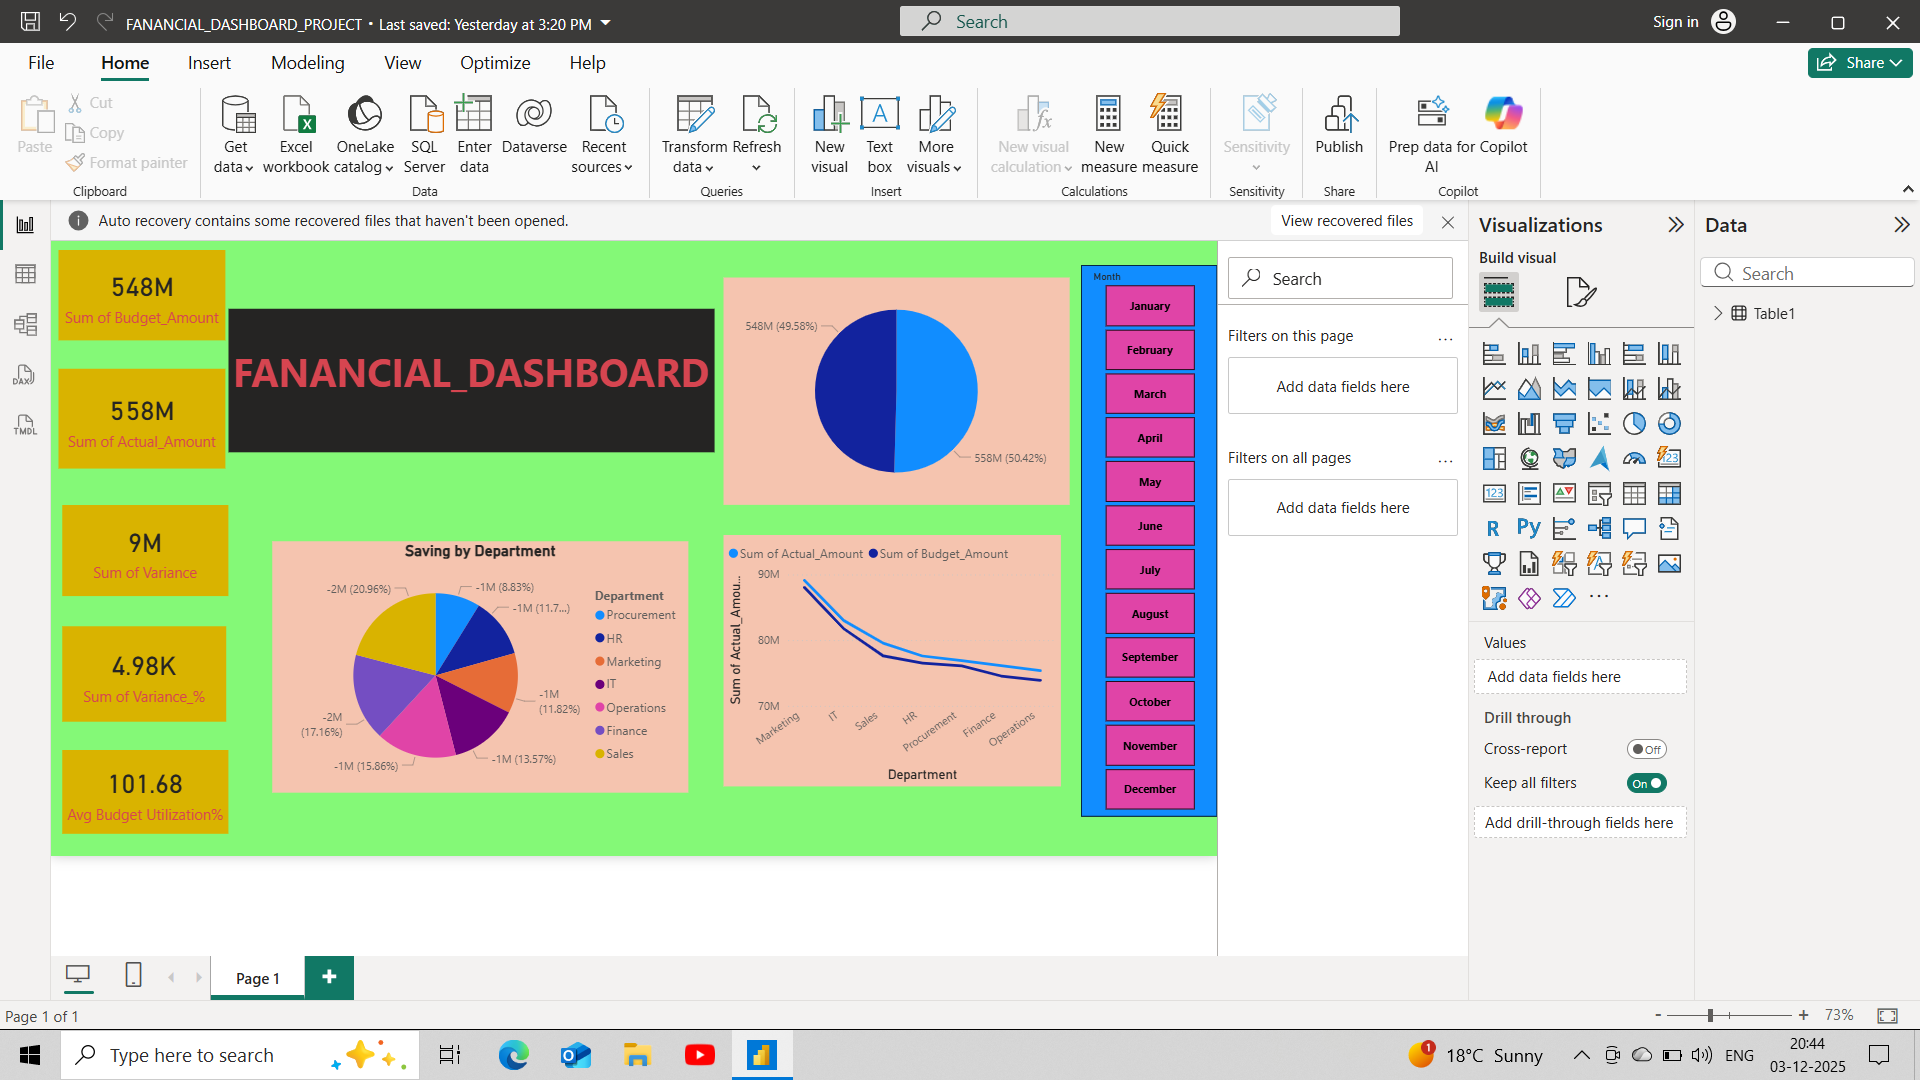

This screenshot's page, from the dashboard's own definition file:
{"tool":"powerbi","page":{"name":"Page 1","canvas":[1280,720],"ordinal":0},"visuals":[{"type":"card","fields":{"Values":["Sum(Table1.Actual_Amount)"]},"box":[8.4,184.6,183.4,109.8],"z":0},{"type":"card","fields":{"Values":["Sum(Table1.Budget_Amount)"]},"box":[8.4,54.3,183.4,98.9],"z":1000},{"type":"card","fields":{"Values":["Sum(Table1.Variance_%)"]},"box":[12.1,468.1,179.8,105],"z":2000},{"type":"card","fields":{"Values":["Table1.Avg Budget Utilization"]},"box":[12.1,603.2,182.2,91.7],"z":3000},{"type":"card","fields":{"Values":["Sum(Table1.Variance)"]},"box":[12.1,334.2,182.2,100.1],"z":4000},{"type":"pieChart","fields":{"Y":["Sum(Table1.Actual_Amount)","Sum(Table1.Budget_Amount)"]},"box":[738.3,85.1,380.1,249.7],"z":5000},{"type":"lineChart","fields":{"Category":["Table1.Department"],"Y":["Sum(Table1.Actual_Amount)","Sum(Table1.Budget_Amount)"]},"box":[738.3,368,370.4,276.3],"z":6000},{"type":"slicer","fields":{"Values":["Table1.Month.Variation.Date Hierarchy.Month"]},"box":[1130.4,71.2,149.6,605.6],"z":7000},{"type":"pieChart","fields":{"Category":["Table1.Department"],"Y":["Table1.Saving"]},"box":[253.4,368,439.1,276.3],"z":8000},{"type":"textbox","box":[194.9,119.4,533.8,157.8],"z":9001}]}

Visuals, with their boxes on the page's 1280x720 design canvas (x1, y1, x2, y2). These are canvas units, not pixel positions in the 1920x1080 screenshot, which may show the page scaled, cropped or inside an application window:
card - Sum(Table1.Actual_Amount): {"x1": 8, "y1": 185, "x2": 192, "y2": 294}
card - Sum(Table1.Budget_Amount): {"x1": 8, "y1": 54, "x2": 192, "y2": 153}
card - Sum(Table1.Variance_%): {"x1": 12, "y1": 468, "x2": 192, "y2": 573}
card - Table1.Avg Budget Utilization: {"x1": 12, "y1": 603, "x2": 194, "y2": 695}
card - Sum(Table1.Variance): {"x1": 12, "y1": 334, "x2": 194, "y2": 434}
pieChart - Sum(Table1.Actual_Amount) x Sum(Table1.Budget_Amount): {"x1": 738, "y1": 85, "x2": 1118, "y2": 335}
lineChart - Table1.Department x Sum(Table1.Actual_Amount): {"x1": 738, "y1": 368, "x2": 1109, "y2": 644}
slicer - Table1.Month.Variation.Date Hierarchy.Month: {"x1": 1130, "y1": 71, "x2": 1280, "y2": 677}
pieChart - Table1.Department x Table1.Saving: {"x1": 253, "y1": 368, "x2": 692, "y2": 644}
textbox: {"x1": 195, "y1": 119, "x2": 729, "y2": 277}
